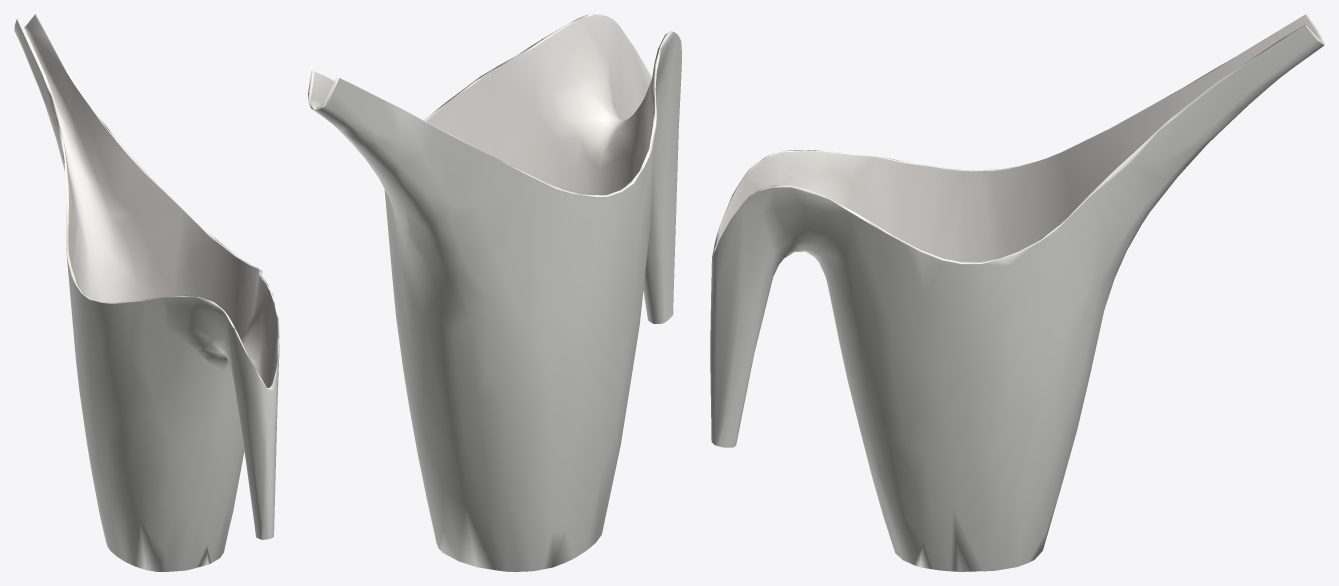
Rendered from 23 - IKEA PS 2002 - 澆花壺，白色，1.2 公升 IKEA 線上購物.glb.
3 renders of one model, left to right at view 1: azimuth 30°, elevation 25°; view 2: azimuth 150°, elevation 25°; view 3: azimuth 270°, elevation 25°, orthographic. The views are drawn at different scales.
Parts seen in each view (by area): view 1: ProcessedMeshNode; view 2: ProcessedMeshNode; view 3: ProcessedMeshNode.
Part boxes in pixels (x1,y1,x2,y2): ProcessedMeshNode: [14, 14, 279, 571]; ProcessedMeshNode: [308, 14, 681, 571]; ProcessedMeshNode: [710, 14, 1324, 571].
Size of the model in its own units: 0.1249 by 0.326 by 0.3462.
1 material, 1 textured.
